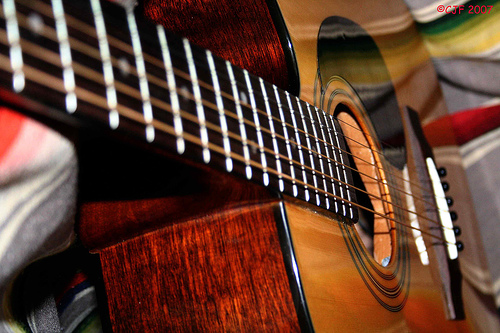guitar: (1, 1, 497, 333)
